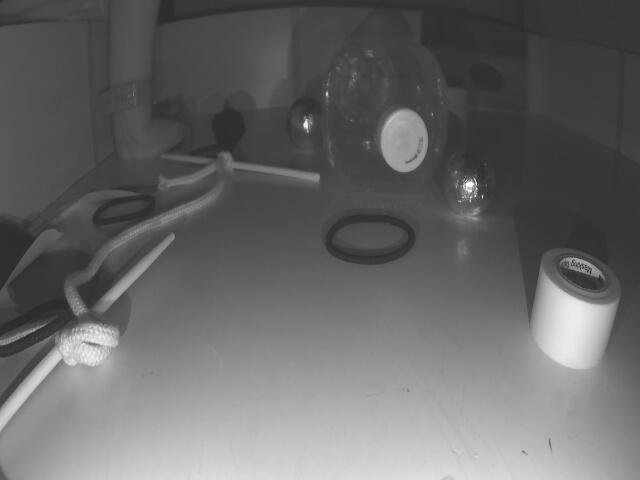Dead: (209, 107, 246, 151)
Live: (443, 147, 493, 214), (285, 95, 326, 148)
